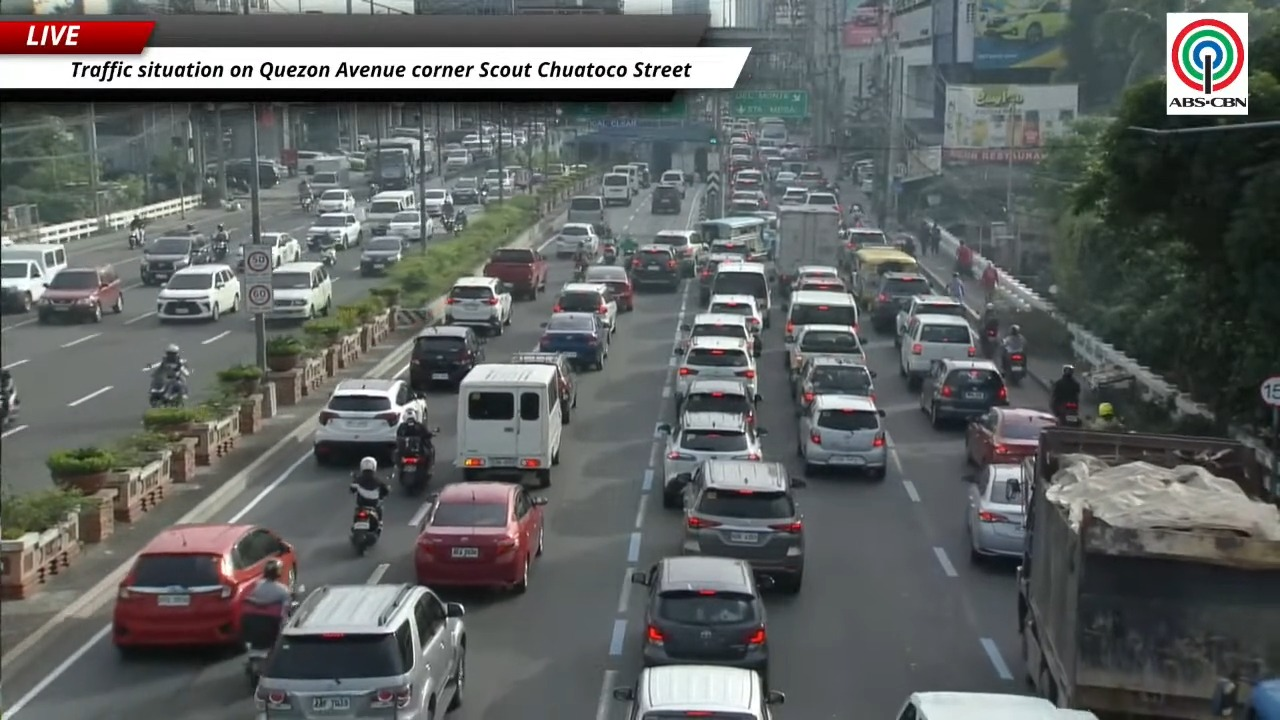car: (255, 583, 466, 719), (112, 524, 297, 653), (677, 460, 805, 593), (631, 556, 768, 676), (414, 481, 545, 591), (658, 409, 766, 506), (313, 379, 426, 464), (612, 664, 784, 719), (798, 395, 887, 478), (919, 359, 1008, 427), (899, 314, 977, 389), (892, 691, 1097, 719), (966, 464, 1024, 560), (675, 336, 757, 401), (965, 407, 1056, 465), (37, 266, 123, 323), (509, 352, 577, 424), (409, 326, 484, 391), (156, 264, 241, 321), (792, 355, 875, 411), (788, 324, 866, 379), (538, 312, 611, 369), (445, 276, 512, 335), (980, 0, 1067, 45), (677, 379, 761, 425), (895, 293, 967, 346), (674, 313, 760, 357), (268, 262, 332, 320), (870, 272, 930, 332), (140, 233, 208, 285), (553, 283, 617, 332), (706, 294, 764, 345), (629, 244, 682, 291), (0, 259, 46, 312), (651, 230, 703, 276), (583, 265, 634, 311), (698, 253, 740, 304), (306, 212, 363, 249), (359, 234, 403, 275), (260, 232, 301, 267), (555, 223, 598, 256), (842, 227, 892, 254), (785, 265, 839, 288), (384, 210, 422, 241), (316, 188, 355, 213), (650, 184, 682, 214), (793, 276, 848, 293), (422, 188, 454, 217), (452, 178, 485, 204), (729, 190, 766, 211), (804, 191, 841, 211), (659, 170, 685, 198), (733, 169, 764, 190), (797, 169, 825, 190), (772, 171, 796, 193), (780, 186, 807, 204), (729, 199, 760, 214)
motorcycle: (241, 585, 304, 690), (397, 442, 435, 494), (349, 505, 380, 555), (149, 374, 186, 407), (1003, 349, 1026, 385), (0, 387, 19, 426), (1054, 402, 1082, 428), (980, 326, 999, 359), (308, 234, 336, 252), (212, 239, 229, 262), (451, 211, 467, 235), (128, 228, 144, 249), (319, 247, 336, 266), (602, 244, 616, 265), (573, 263, 587, 282), (299, 195, 313, 213), (441, 215, 454, 233)
truck: (1016, 427, 1279, 719), (773, 205, 840, 291), (482, 247, 548, 300), (1213, 677, 1279, 719), (371, 148, 416, 189), (310, 156, 350, 195), (377, 137, 426, 167), (503, 165, 531, 191)
